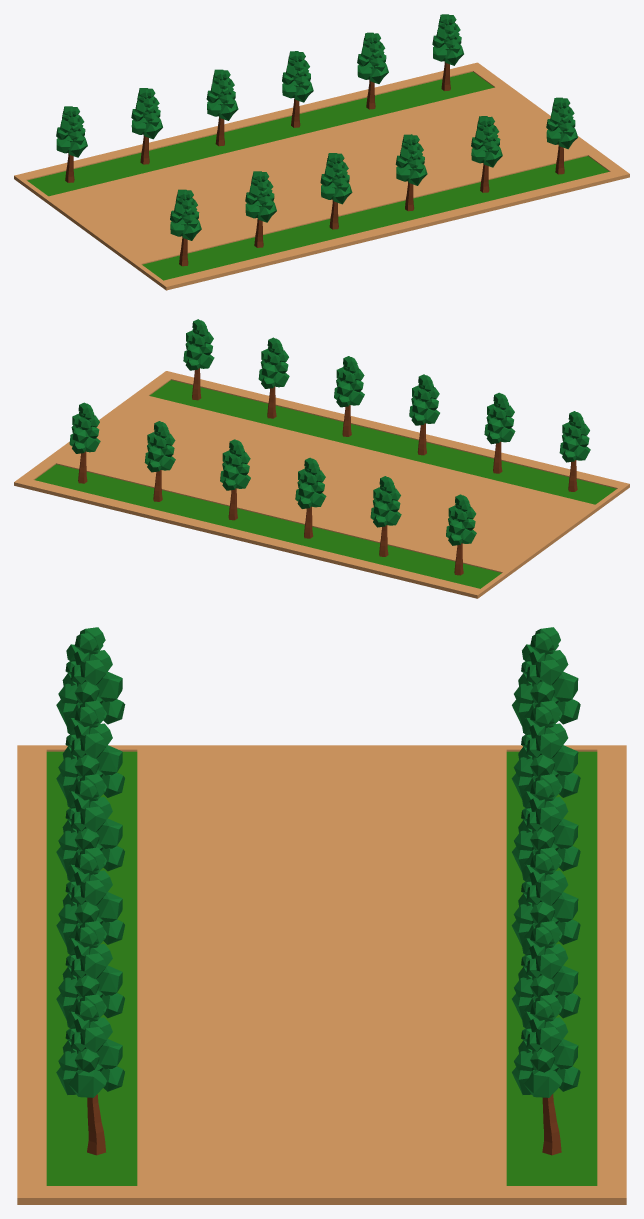
3 views of the same model, one above another, from view 1: azimuth 30°, elevation 25°; view 2: azimuth 150°, elevation 25°; view 3: azimuth 270°, elevation 25° (orthographic). The views are drawn at different scales.
Visible parts, largest first — view 1: Piazzetta, Albero; view 2: Piazzetta, Albero; view 3: Piazzetta, Albero.
Boxes of the visible parts, bbox=[...] form: Piazzetta: bbox=[14, 62, 629, 290]; Albero: bbox=[56, 14, 577, 266]; Piazzetta: bbox=[14, 371, 629, 598]; Albero: bbox=[69, 319, 590, 575]; Piazzetta: bbox=[17, 745, 626, 1204]; Albero: bbox=[56, 627, 580, 1155].
Bounding box in the file's own units: 45.31 × 7.39 × 25.77.
1 material, 1 textured.
